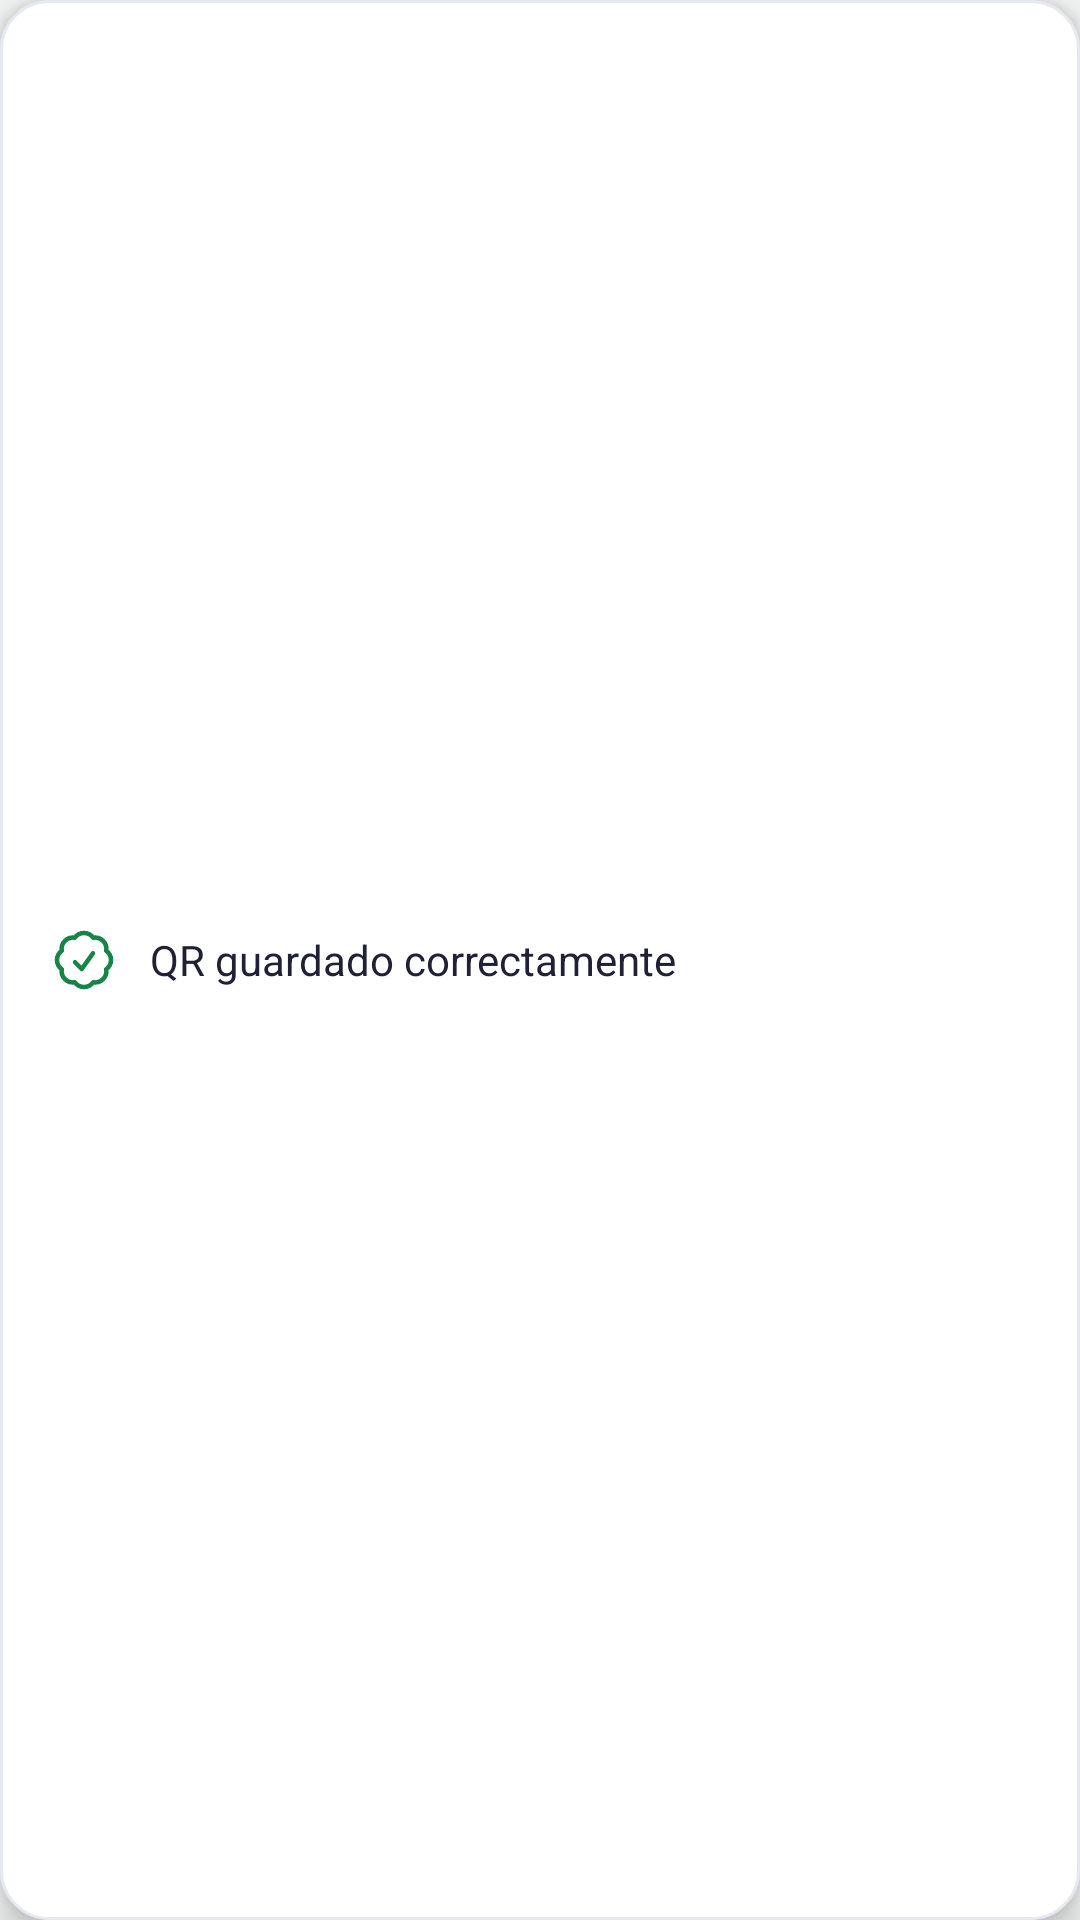

Icon click points for this 1080×1920 phone screenshot, format (x,y):
check circle: (84,960)
